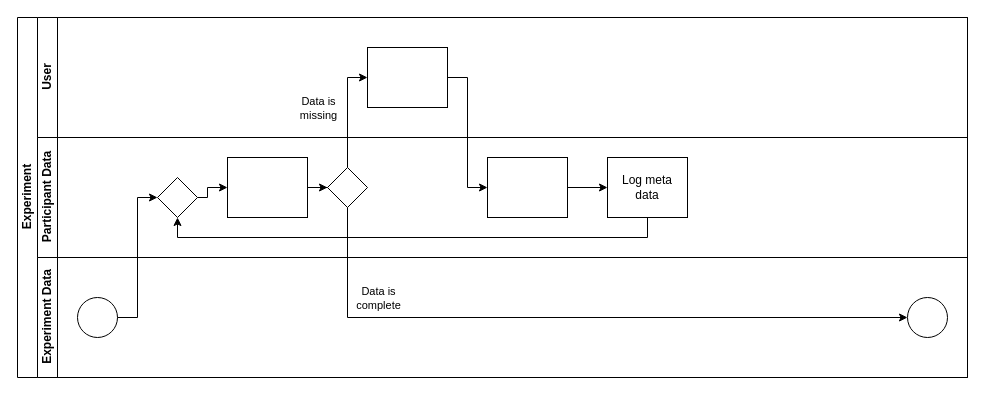
Some shapes in this 985 by 395 pixel diagram are drawn without their labels. Each missing label, with the centre of its shape:
Fill out question: the point at 407,77
Insert missing data entry: the point at 527,187
Load next entry of data for participant: the point at 267,187
